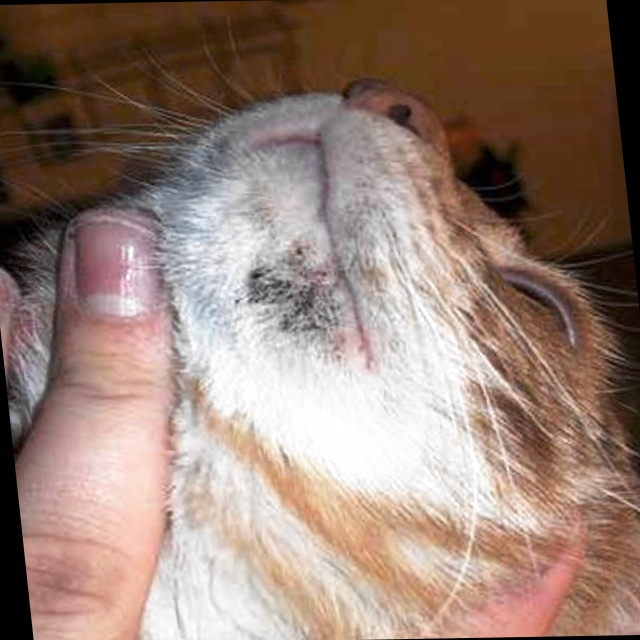acne: (237, 245, 345, 341)
